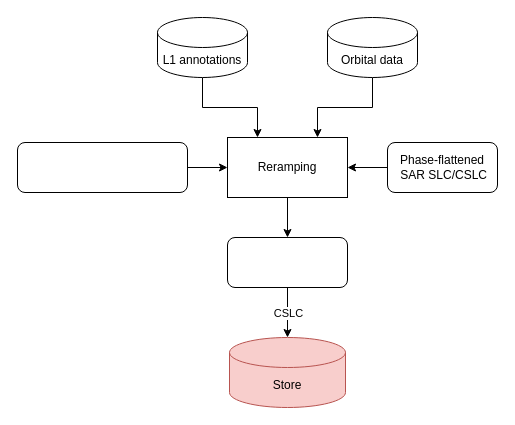
This 515x425 diagram has some shape labels left out. The centre of each missing label's shape, as x and y in pixels:
Co-registered SAR SLC: [287,262]
Reference-Secondary Images Association Matrix: [102,167]
